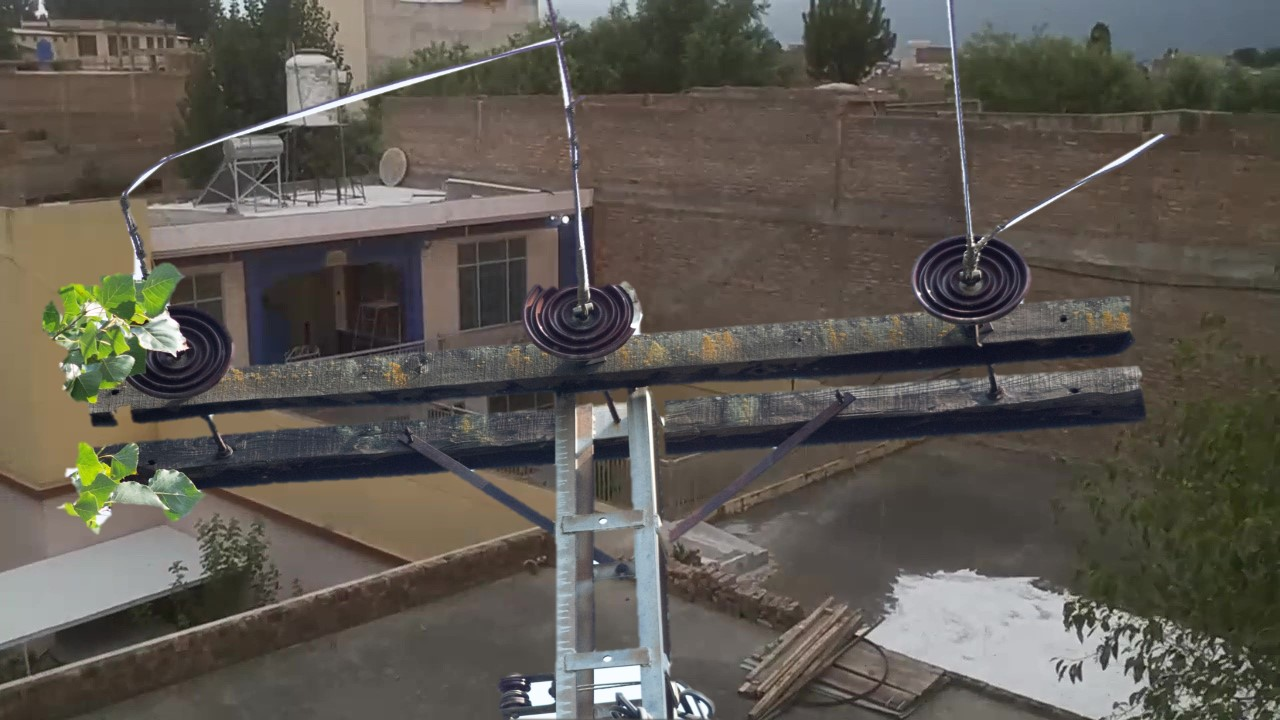defect_disc: (519, 274, 652, 367)
insulator_disc: (907, 230, 1037, 329), (130, 301, 241, 401)
